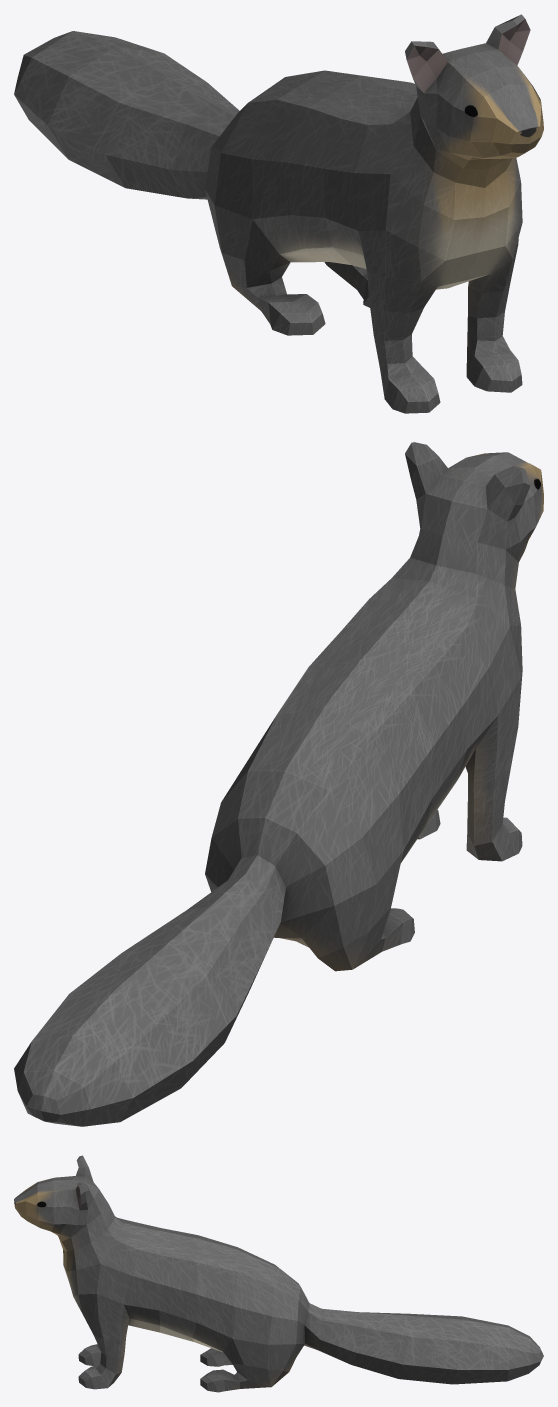
The model's file is squirrel 2.glb.
3 renders of one model, top to bottom at view 1: azimuth 30°, elevation 25°; view 2: azimuth 150°, elevation 25°; view 3: azimuth 270°, elevation 25°, orthographic. The views are drawn at different scales.
Visible parts, largest first — view 1: Squirrel_Mesh; view 2: Squirrel_Mesh; view 3: Squirrel_Mesh.
Part boxes in pixels (x1,y1,x2,y2): Squirrel_Mesh: (14, 14, 543, 413); Squirrel_Mesh: (14, 442, 543, 1126); Squirrel_Mesh: (14, 1155, 543, 1392).
Size of the model in its own units: 1.51 by 3.36 by 7.9.
Materials: 1 (1 with a texture image).
